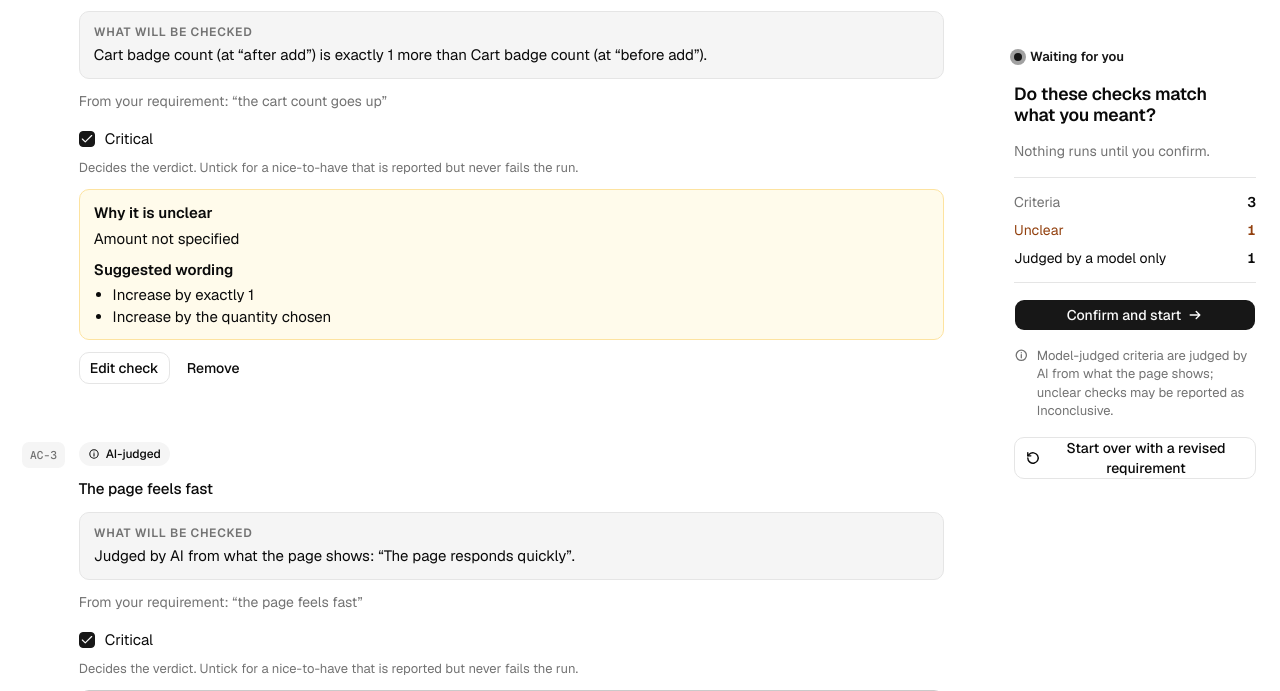
Test case: CriteriaReview › saving a check that wasn't changed sends nothing and just closes the editor
(page scrolled)
Click the button with aria-label "Edit check AC-2". click: click(124, 368)
box: [79,352,170,384]
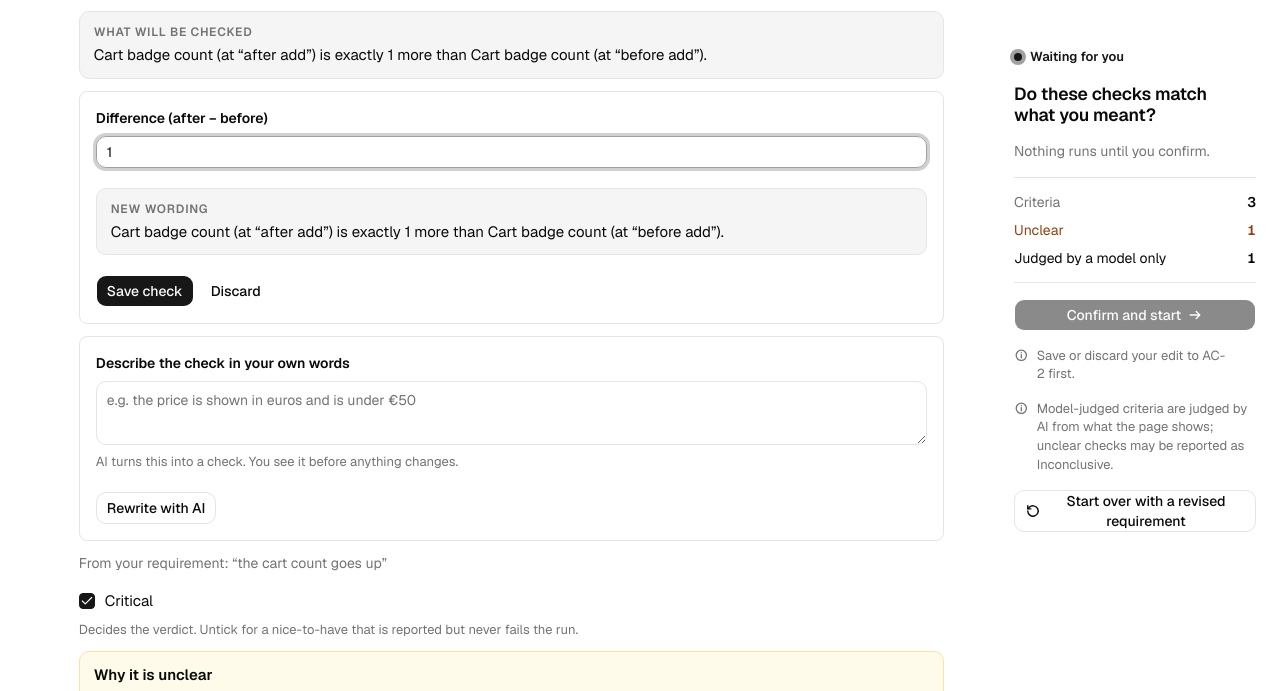
Replace the text in the field labelled "Difference (after − before)" with "1.0". click: (511, 152)
box: [96,136,927,168]
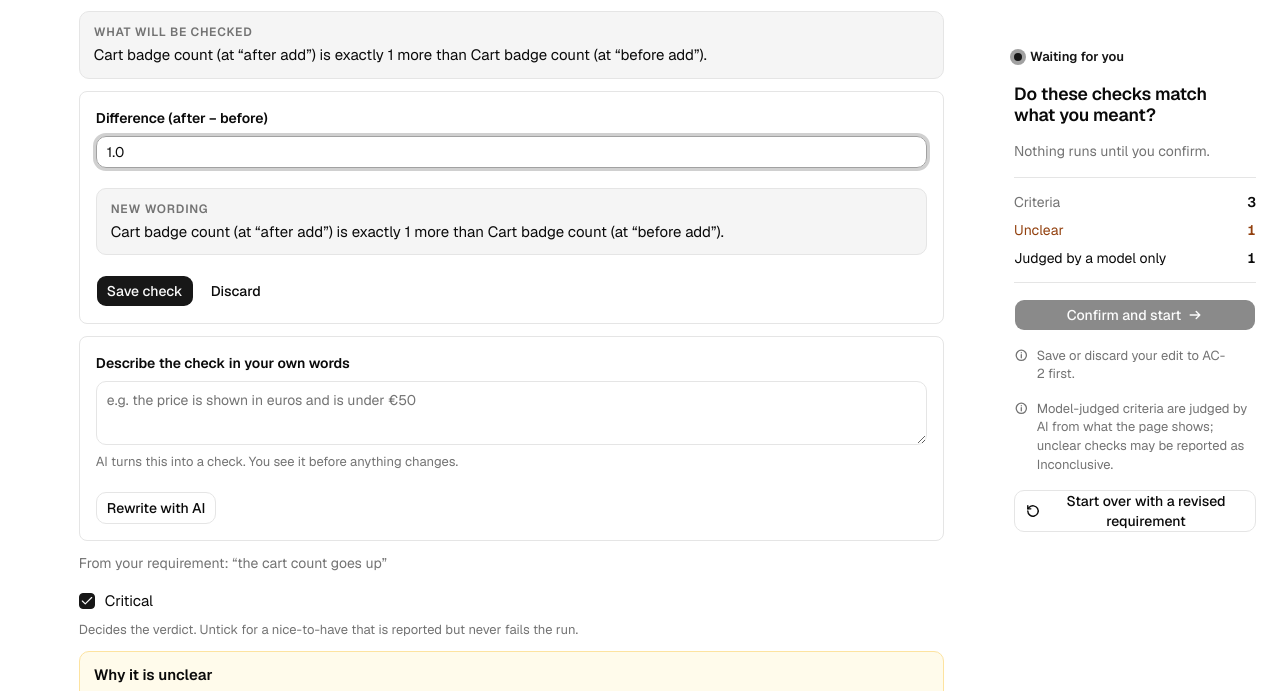
Click the button "Save check". click: click(145, 291)
box: [96,275,194,307]
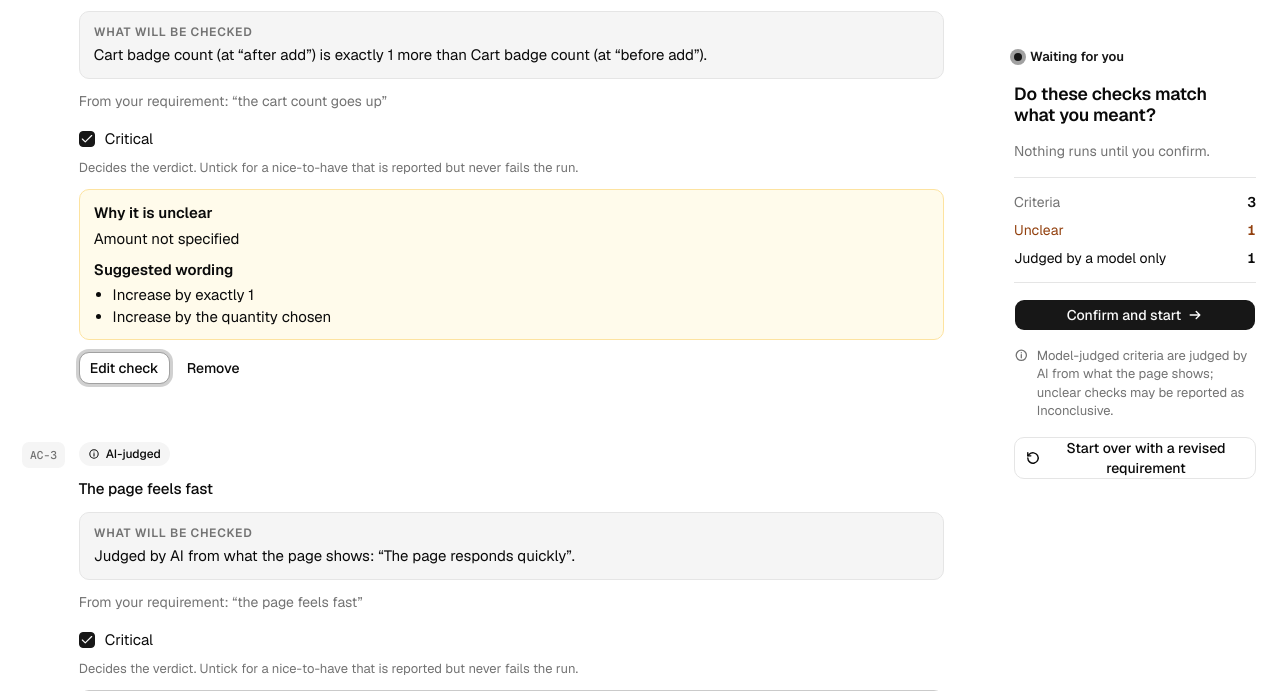
Now the button "Save check" is gone
Now the button with aria-label "Edit check AC-2" is shown, box [79,352,170,384]
Now the button "Confirm and start" is enabled, box [1014,299,1256,331]
